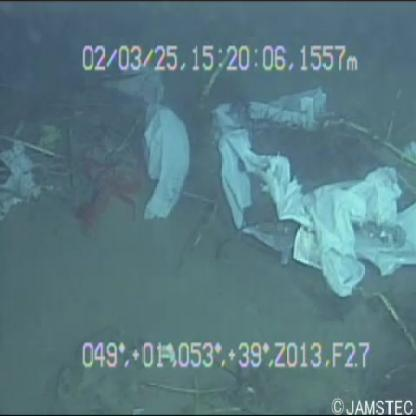Rác: (209, 57, 416, 299), (114, 67, 194, 243)
